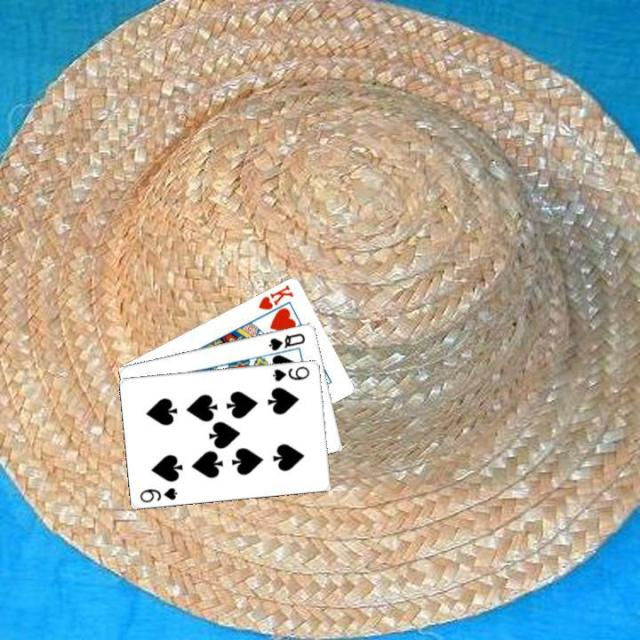9S: (268, 362, 312, 382), (136, 484, 180, 504)
KH: (254, 280, 295, 311)
QS: (265, 329, 307, 352)
